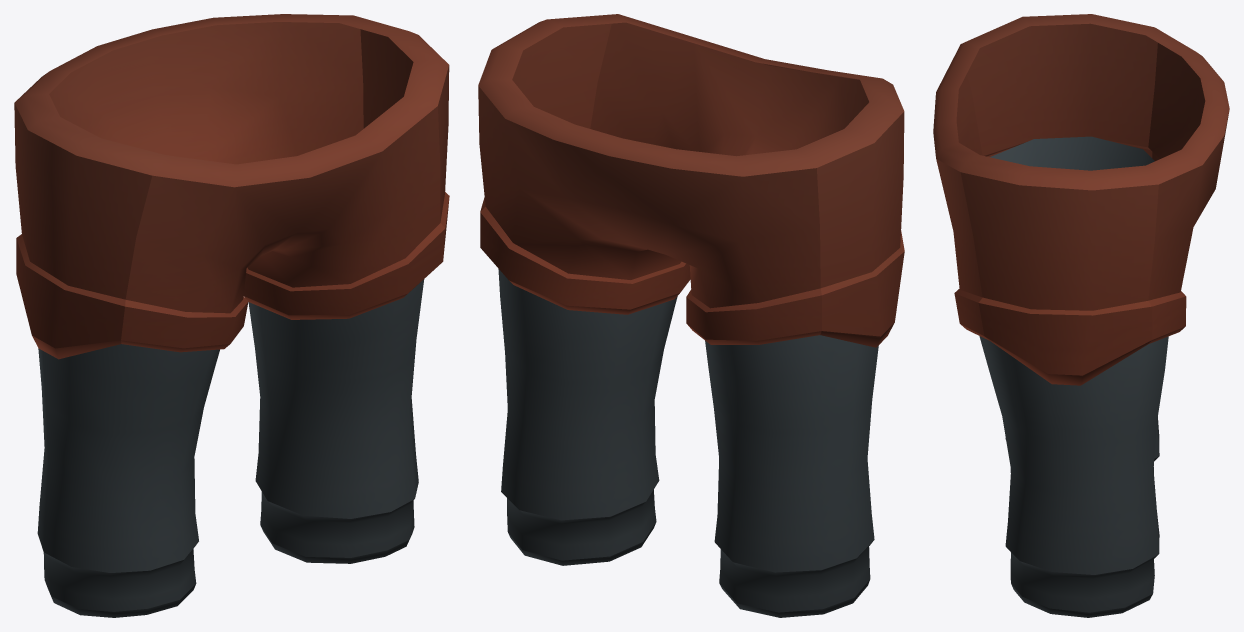
The model's file is Pants_10.glb.
The picture shows the model from 3 angles, left to right: view 1: azimuth 30°, elevation 25°; view 2: azimuth 150°, elevation 25°; view 3: azimuth 270°, elevation 25°; orthographic projection. The views are drawn at different scales.
Visible parts, largest first — view 1: Pants_10; view 2: Pants_10; view 3: Pants_10.
Part boxes in pixels (box(x1,y1,x2,y2)): Pants_10: box(14, 14, 449, 617); Pants_10: box(478, 14, 904, 617); Pants_10: box(933, 14, 1229, 617).
Bounding box in the file's own units: 0.2453 × 0.2879 × 0.1735.
Materials: 1 (1 with a texture image).
